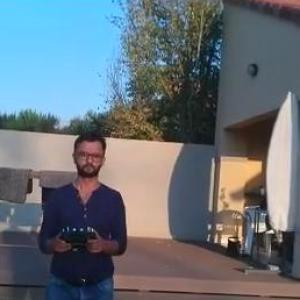follow: (32, 124, 132, 299)
